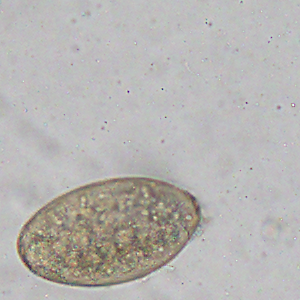Fasciola_hepatica_egg: (14, 174, 203, 289)
